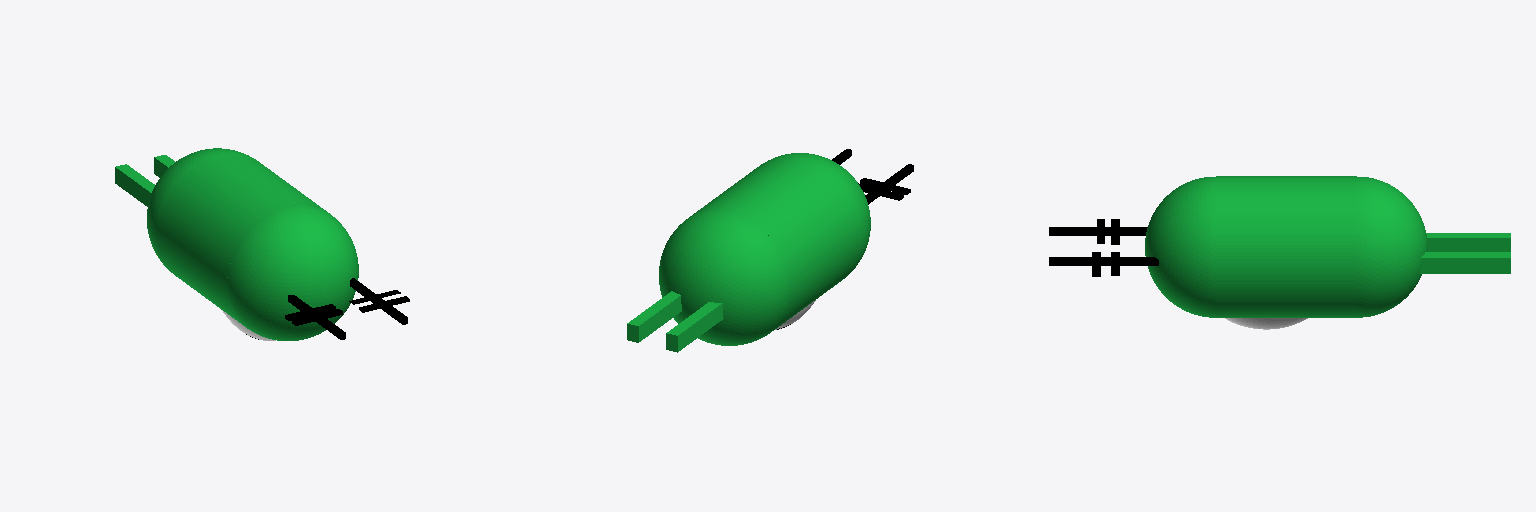
File: Plankton.obj
3 renders of one model, left to right at view 1: azimuth 30°, elevation 25°; view 2: azimuth 150°, elevation 25°; view 3: azimuth 270°, elevation 25°, orthographic.
Parts seen in each view (by area): view 1: Object.3, Object.1, Object.2, Object.4, Object.7, Object.6; view 2: Object.2, Object.1, Object.3, Object.4, Object.5; view 3: Object.1, Object.3, Object.2, Object.5, Object.4, Object.7, Object.6, Object.8.
Boxes of the visible parts, <box> form: Object.3: <box>227,205,358,340</box>; Object.1: <box>156,153,325,328</box>; Object.2: <box>147,148,249,272</box>; Object.4: <box>115,164,154,206</box>; Object.7: <box>350,278,407,324</box>; Object.6: <box>288,295,345,339</box>; Object.2: <box>659,209,790,345</box>; Object.1: <box>693,158,860,328</box>; Object.3: <box>761,153,870,272</box>; Object.4: <box>666,302,723,352</box>; Object.5: <box>627,291,681,342</box>; Object.1: <box>1216,176,1356,317</box>; Object.3: <box>1145,177,1215,317</box>; Object.2: <box>1356,177,1427,317</box>; Object.5: <box>1419,252,1510,273</box>; Object.4: <box>1426,233,1510,251</box>; Object.7: <box>1049,257,1158,265</box>; Object.6: <box>1049,227,1147,235</box>; Object.8: <box>1225,318,1307,329</box>.
Size of the model in its own units: 40 by 45.52 by 131.